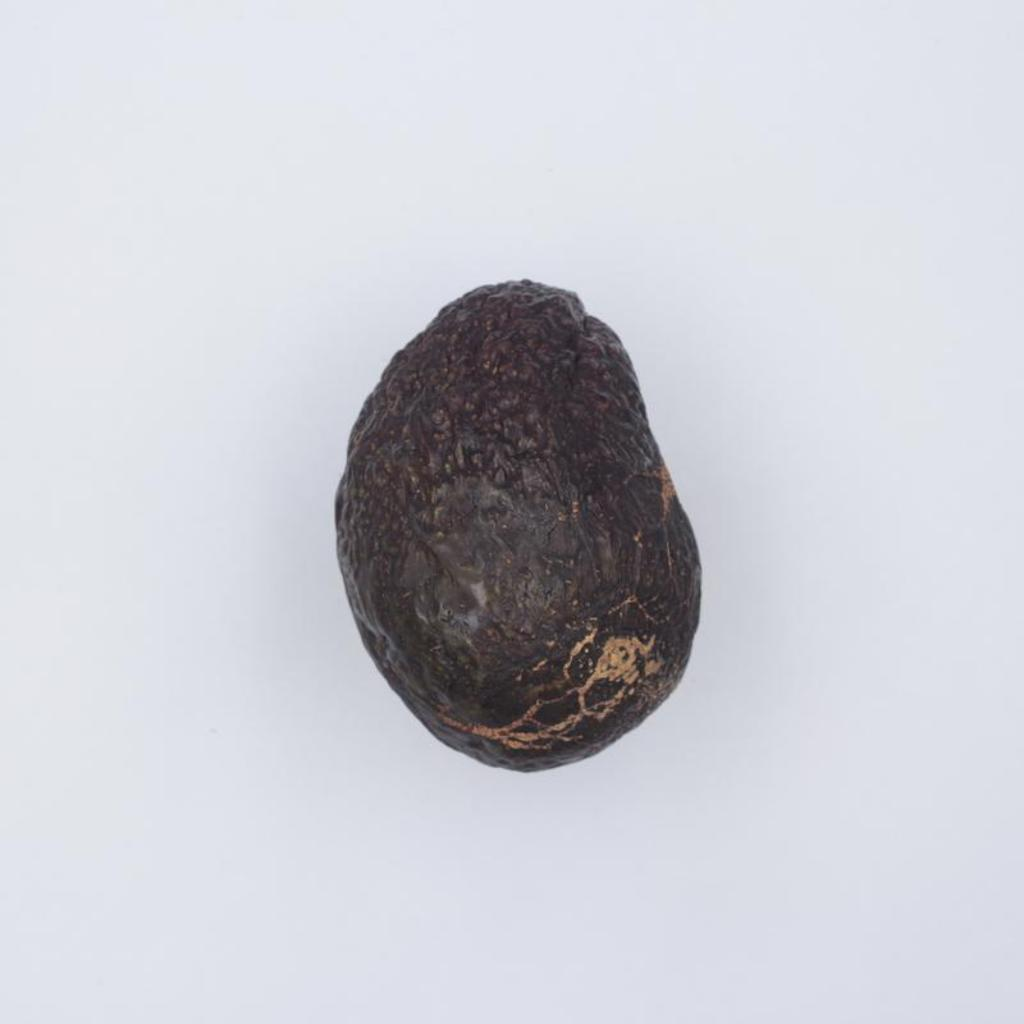scab: (335, 280, 700, 771)
